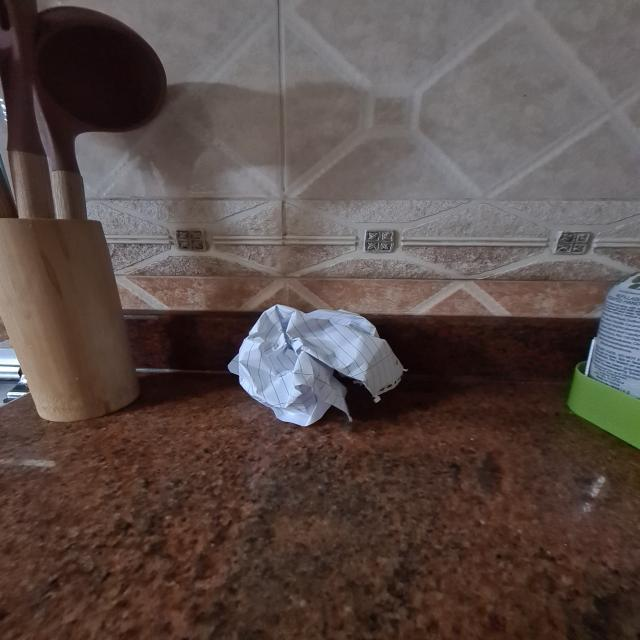Paper: (229, 305, 411, 420)
